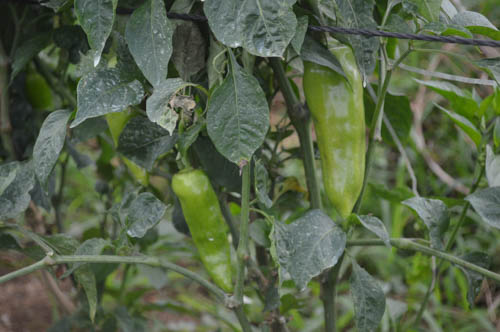ChiliPepper: (307, 48, 364, 225), (178, 171, 237, 289)
